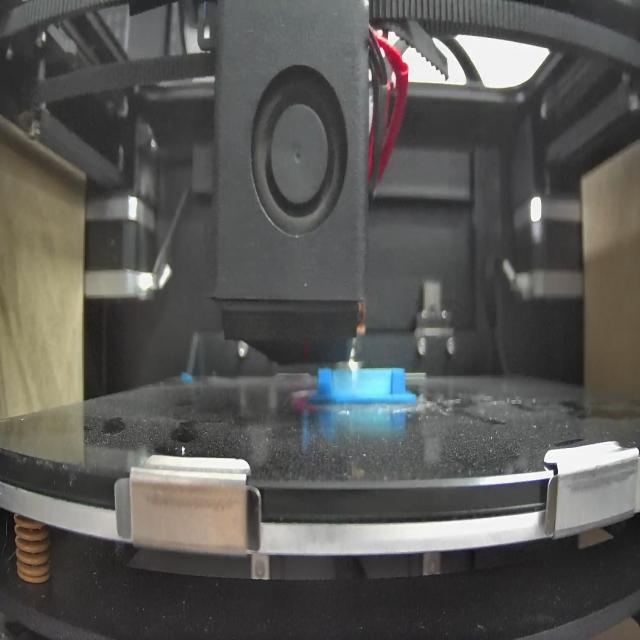stringing: (332, 366, 392, 397)
